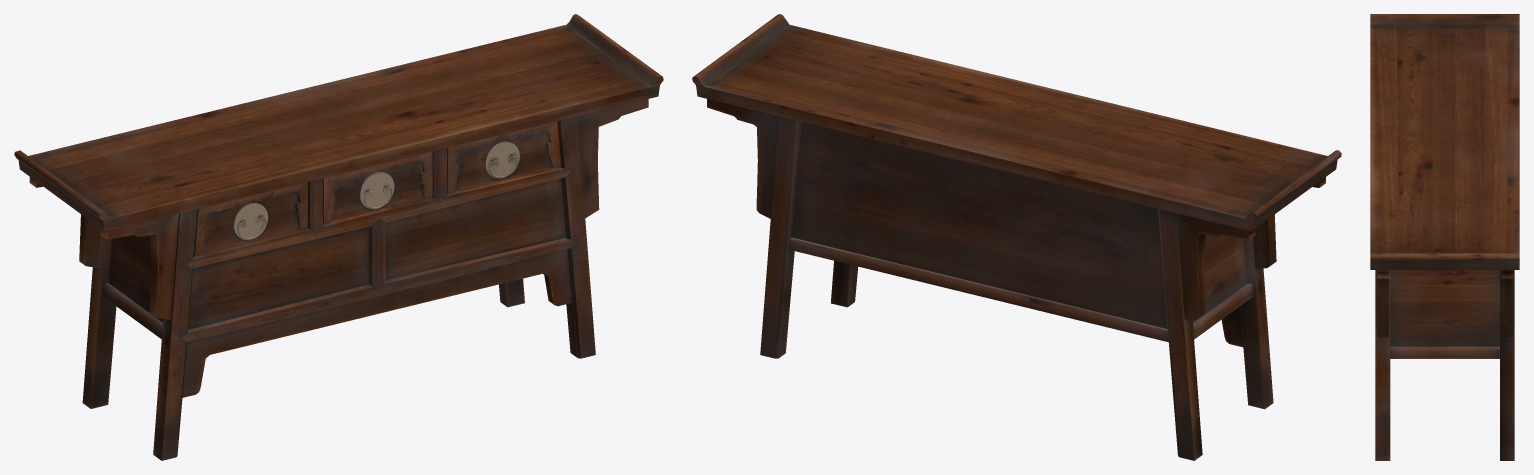
The model's file is chinese_commode.glb.
The picture shows the model from 3 angles, left to right: view 1: azimuth 30°, elevation 25°; view 2: azimuth 150°, elevation 25°; view 3: azimuth 270°, elevation 25°; orthographic projection. The views are drawn at different scales.
Parts seen in each view (by area): view 1: Plane.004, chinese_commode; view 2: Plane.004; view 3: Plane.004.
Part boxes in pixels (bbox=[...]): Plane.004: bbox=[14, 14, 663, 460]; chinese_commode: bbox=[194, 121, 560, 256]; Plane.004: bbox=[692, 14, 1341, 460]; Plane.004: bbox=[1370, 14, 1519, 460].
Size of the model in its own units: 4.49 by 2.02 by 1.17.
1 material, 1 textured.
